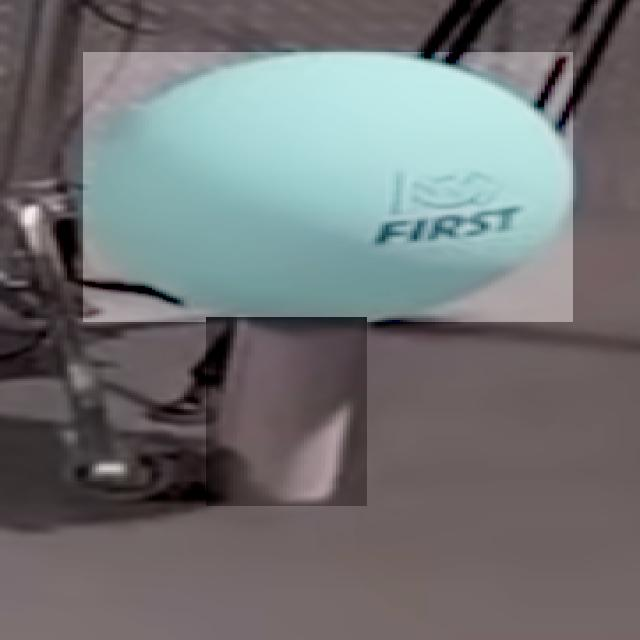Algae: (83, 52, 573, 322)
Coral: (206, 317, 367, 506)
